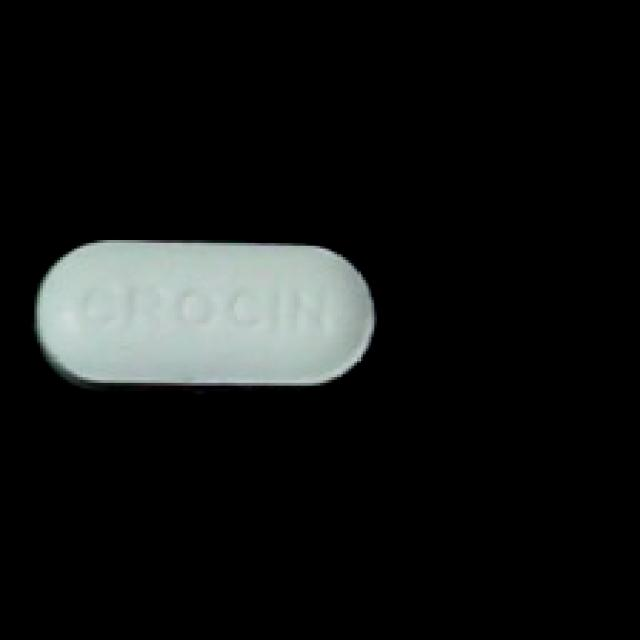no-defect: (29, 231, 386, 400)
